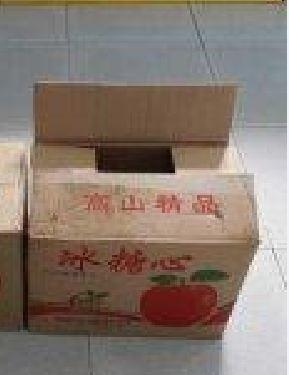cardboard: (28, 82, 258, 374)
